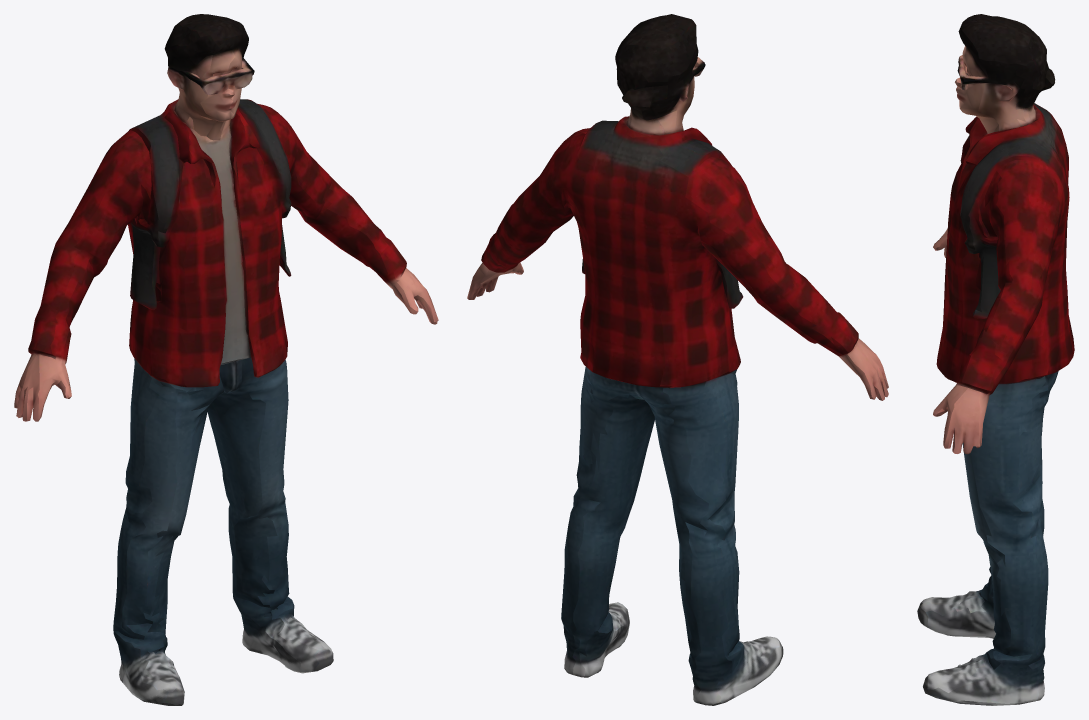
Rendered from coder.glb.
The picture shows the model from 3 angles, left to right: view 1: azimuth 30°, elevation 25°; view 2: azimuth 150°, elevation 25°; view 3: azimuth 270°, elevation 25°; orthographic projection.
Parts seen in each view (by area): view 1: world; view 2: world; view 3: world.
Boxes of the visible parts, bbox=[...] form: world: bbox=[14, 14, 438, 705]; world: bbox=[467, 14, 888, 705]; world: bbox=[917, 14, 1074, 705].
Bounding box in the file's own units: 1.18 × 1.78 × 0.393.
1 material, 1 textured.
